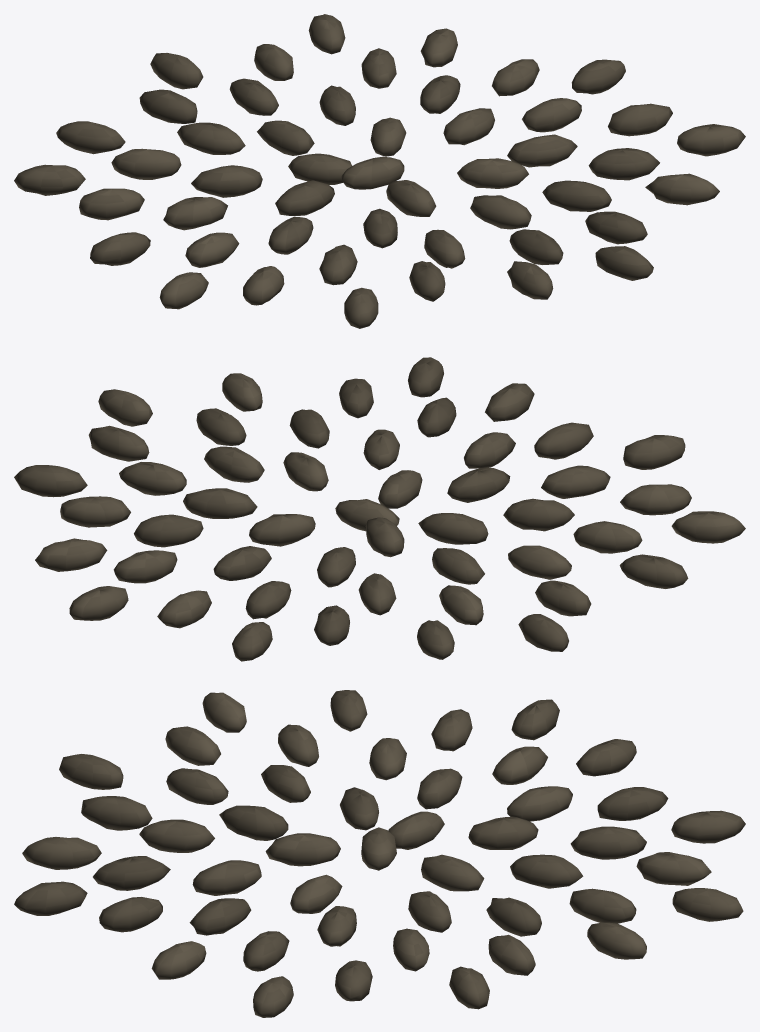
The model's file is SunflowerSeed.glb.
3 views of the same model, one above another, from view 1: azimuth 30°, elevation 25°; view 2: azimuth 150°, elevation 25°; view 3: azimuth 270°, elevation 25° (orthographic). The views are drawn at different scales.
Parts seen in each view (by area): view 1: SunflowerSeed; view 2: SunflowerSeed; view 3: SunflowerSeed.
Boxes of the visible parts, left/top/right/bottom form: SunflowerSeed: left=14, top=14, right=745, bottom=328; SunflowerSeed: left=14, top=357, right=745, bottom=661; SunflowerSeed: left=14, top=690, right=745, bottom=1017.
Size of what is drawn, in the model's own units: 0.0653 by 0.00291 by 0.0631.
